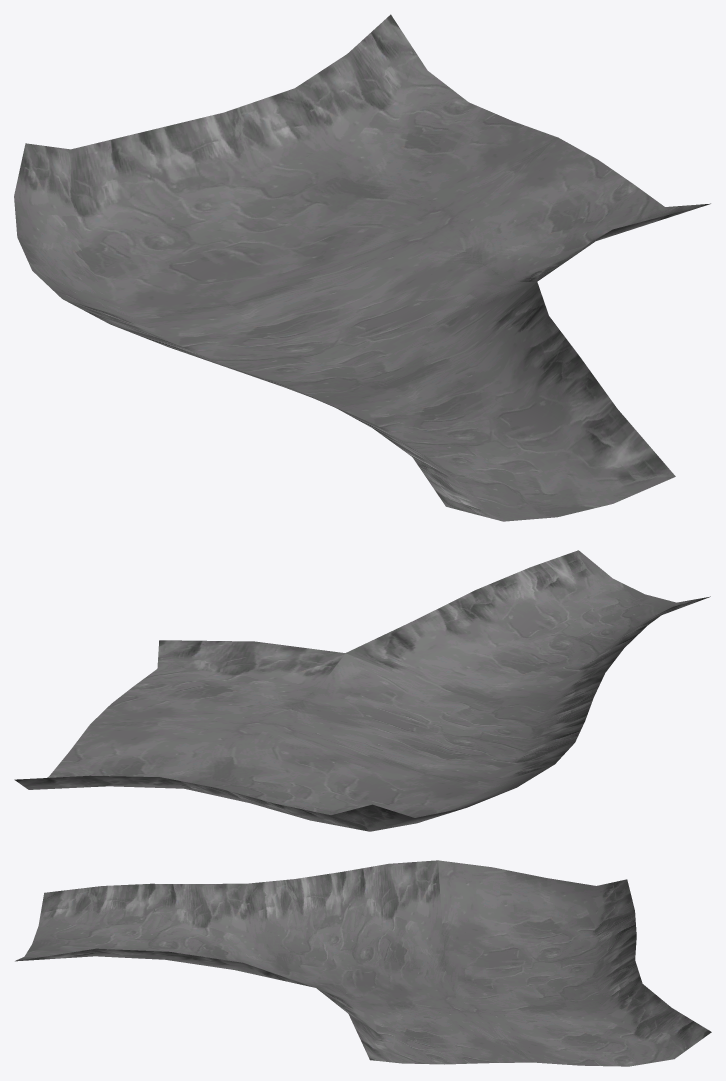
File: SWORDLIGHT20_PS-AREA03_141.fbx
3 views of the same model, one above another, from view 1: azimuth 30°, elevation 25°; view 2: azimuth 150°, elevation 25°; view 3: azimuth 270°, elevation 25° (orthographic). The views are drawn at different scales.
Visible parts, largest first — view 1: SWORDLIGHT20_PS-AREA03_141; view 2: SWORDLIGHT20_PS-AREA03_141; view 3: SWORDLIGHT20_PS-AREA03_141.
Part boxes in pixels (left/top/right/bottom): SWORDLIGHT20_PS-AREA03_141: left=14, top=14, right=710, bottom=521; SWORDLIGHT20_PS-AREA03_141: left=14, top=550, right=710, bottom=831; SWORDLIGHT20_PS-AREA03_141: left=15, top=860, right=711, bottom=1066.
Bounding box in the file's own units: 126927 × 16100 × 195559.
Materials: 3 (3 with a texture image).
